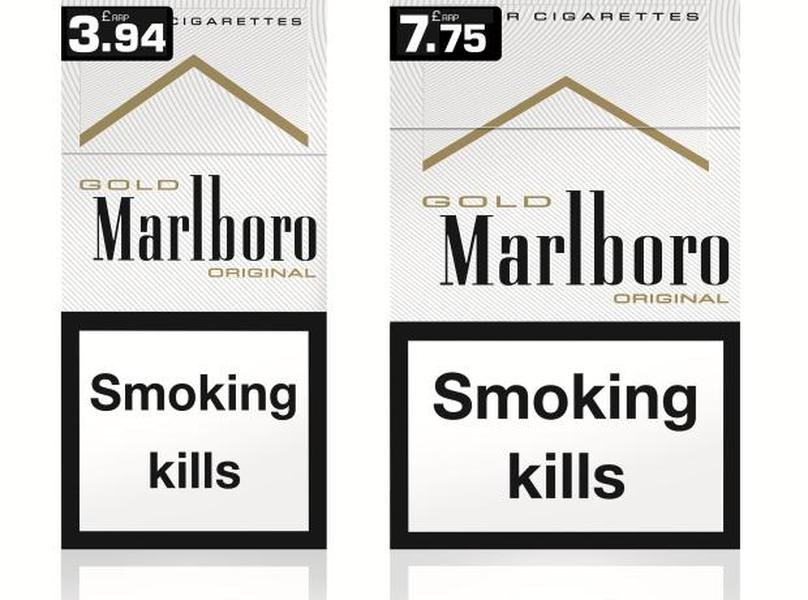marlboro_gold: (391, 4, 739, 551), (63, 4, 327, 550)
